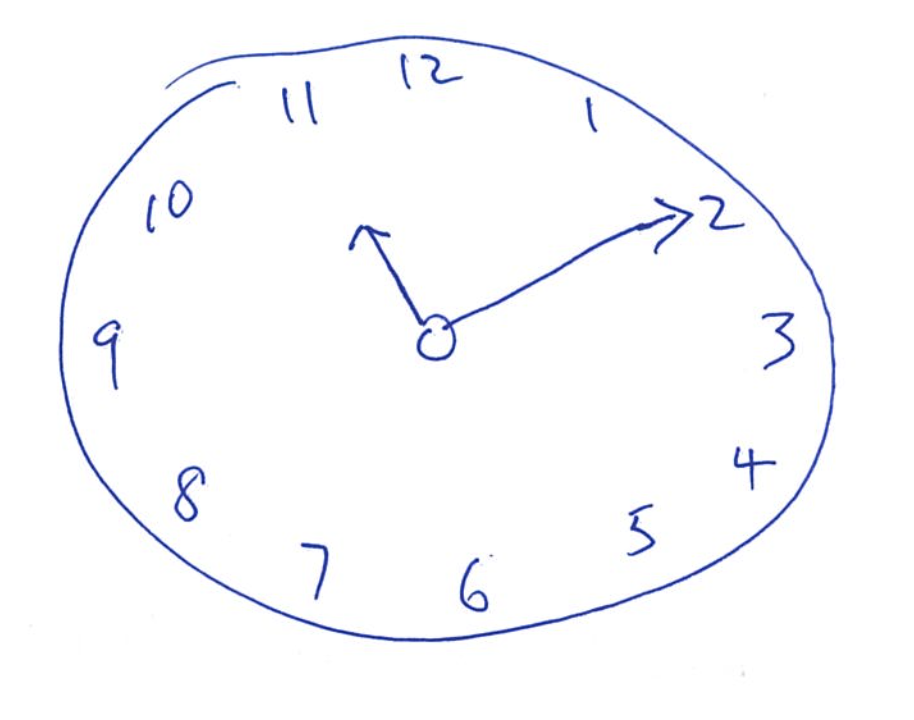1: (579, 88, 604, 139)
10: (141, 175, 194, 239)
11: (277, 78, 319, 130)
2: (696, 191, 747, 234)
3: (758, 307, 797, 374)
4: (729, 440, 777, 492)
5: (624, 498, 659, 562)
6: (457, 547, 491, 618)
7: (299, 537, 333, 603)
8: (173, 459, 207, 526)
9: (89, 309, 126, 398)
contour: (49, 30, 842, 647)
hand: (350, 197, 693, 359)
top_left_arrow: (347, 219, 420, 333)
top_right_arrow: (441, 196, 695, 333)
